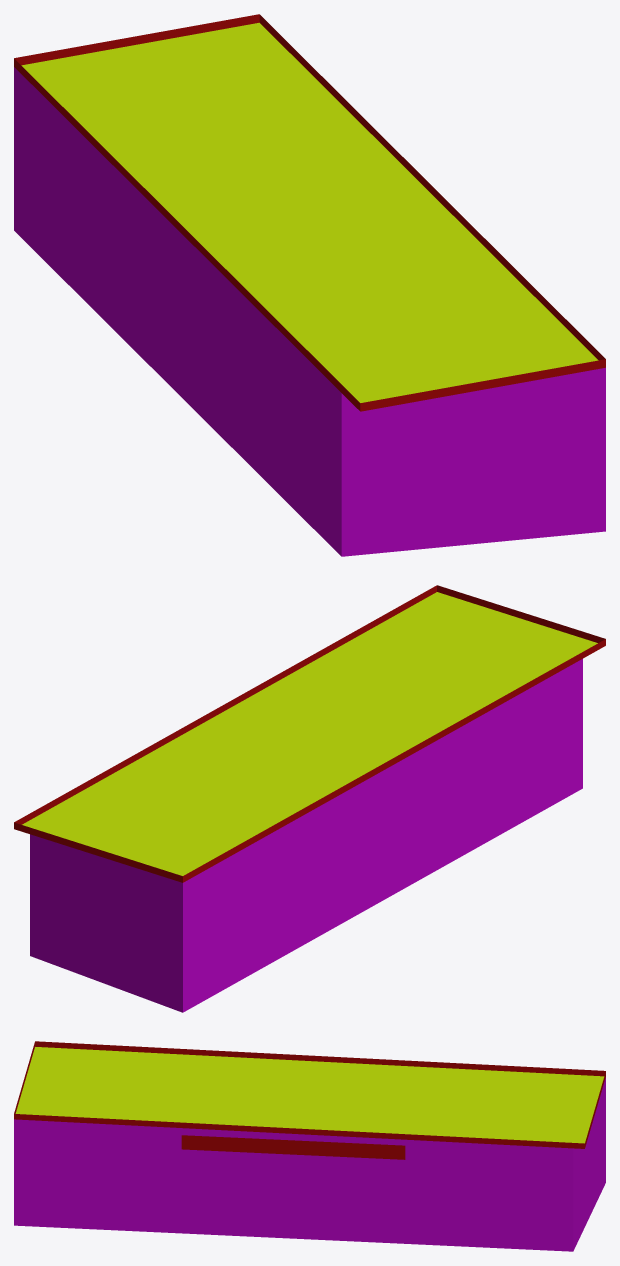
The model's file is ssv_36.glb.
3 renders of one model, top to bottom at view 1: azimuth 30°, elevation 25°; view 2: azimuth 150°, elevation 25°; view 3: azimuth 270°, elevation 25°, orthographic. The views are drawn at different scales.
Parts seen in each view (by area): view 1: ssv_36; view 2: ssv_36; view 3: ssv_36.
Part boxes in pixels (bbox=[...]): ssv_36: bbox=[14, 14, 605, 556]; ssv_36: bbox=[14, 585, 605, 1012]; ssv_36: bbox=[14, 1041, 605, 1251].
Size of the model in its own units: 13.85 by 7.07 by 33.91.
